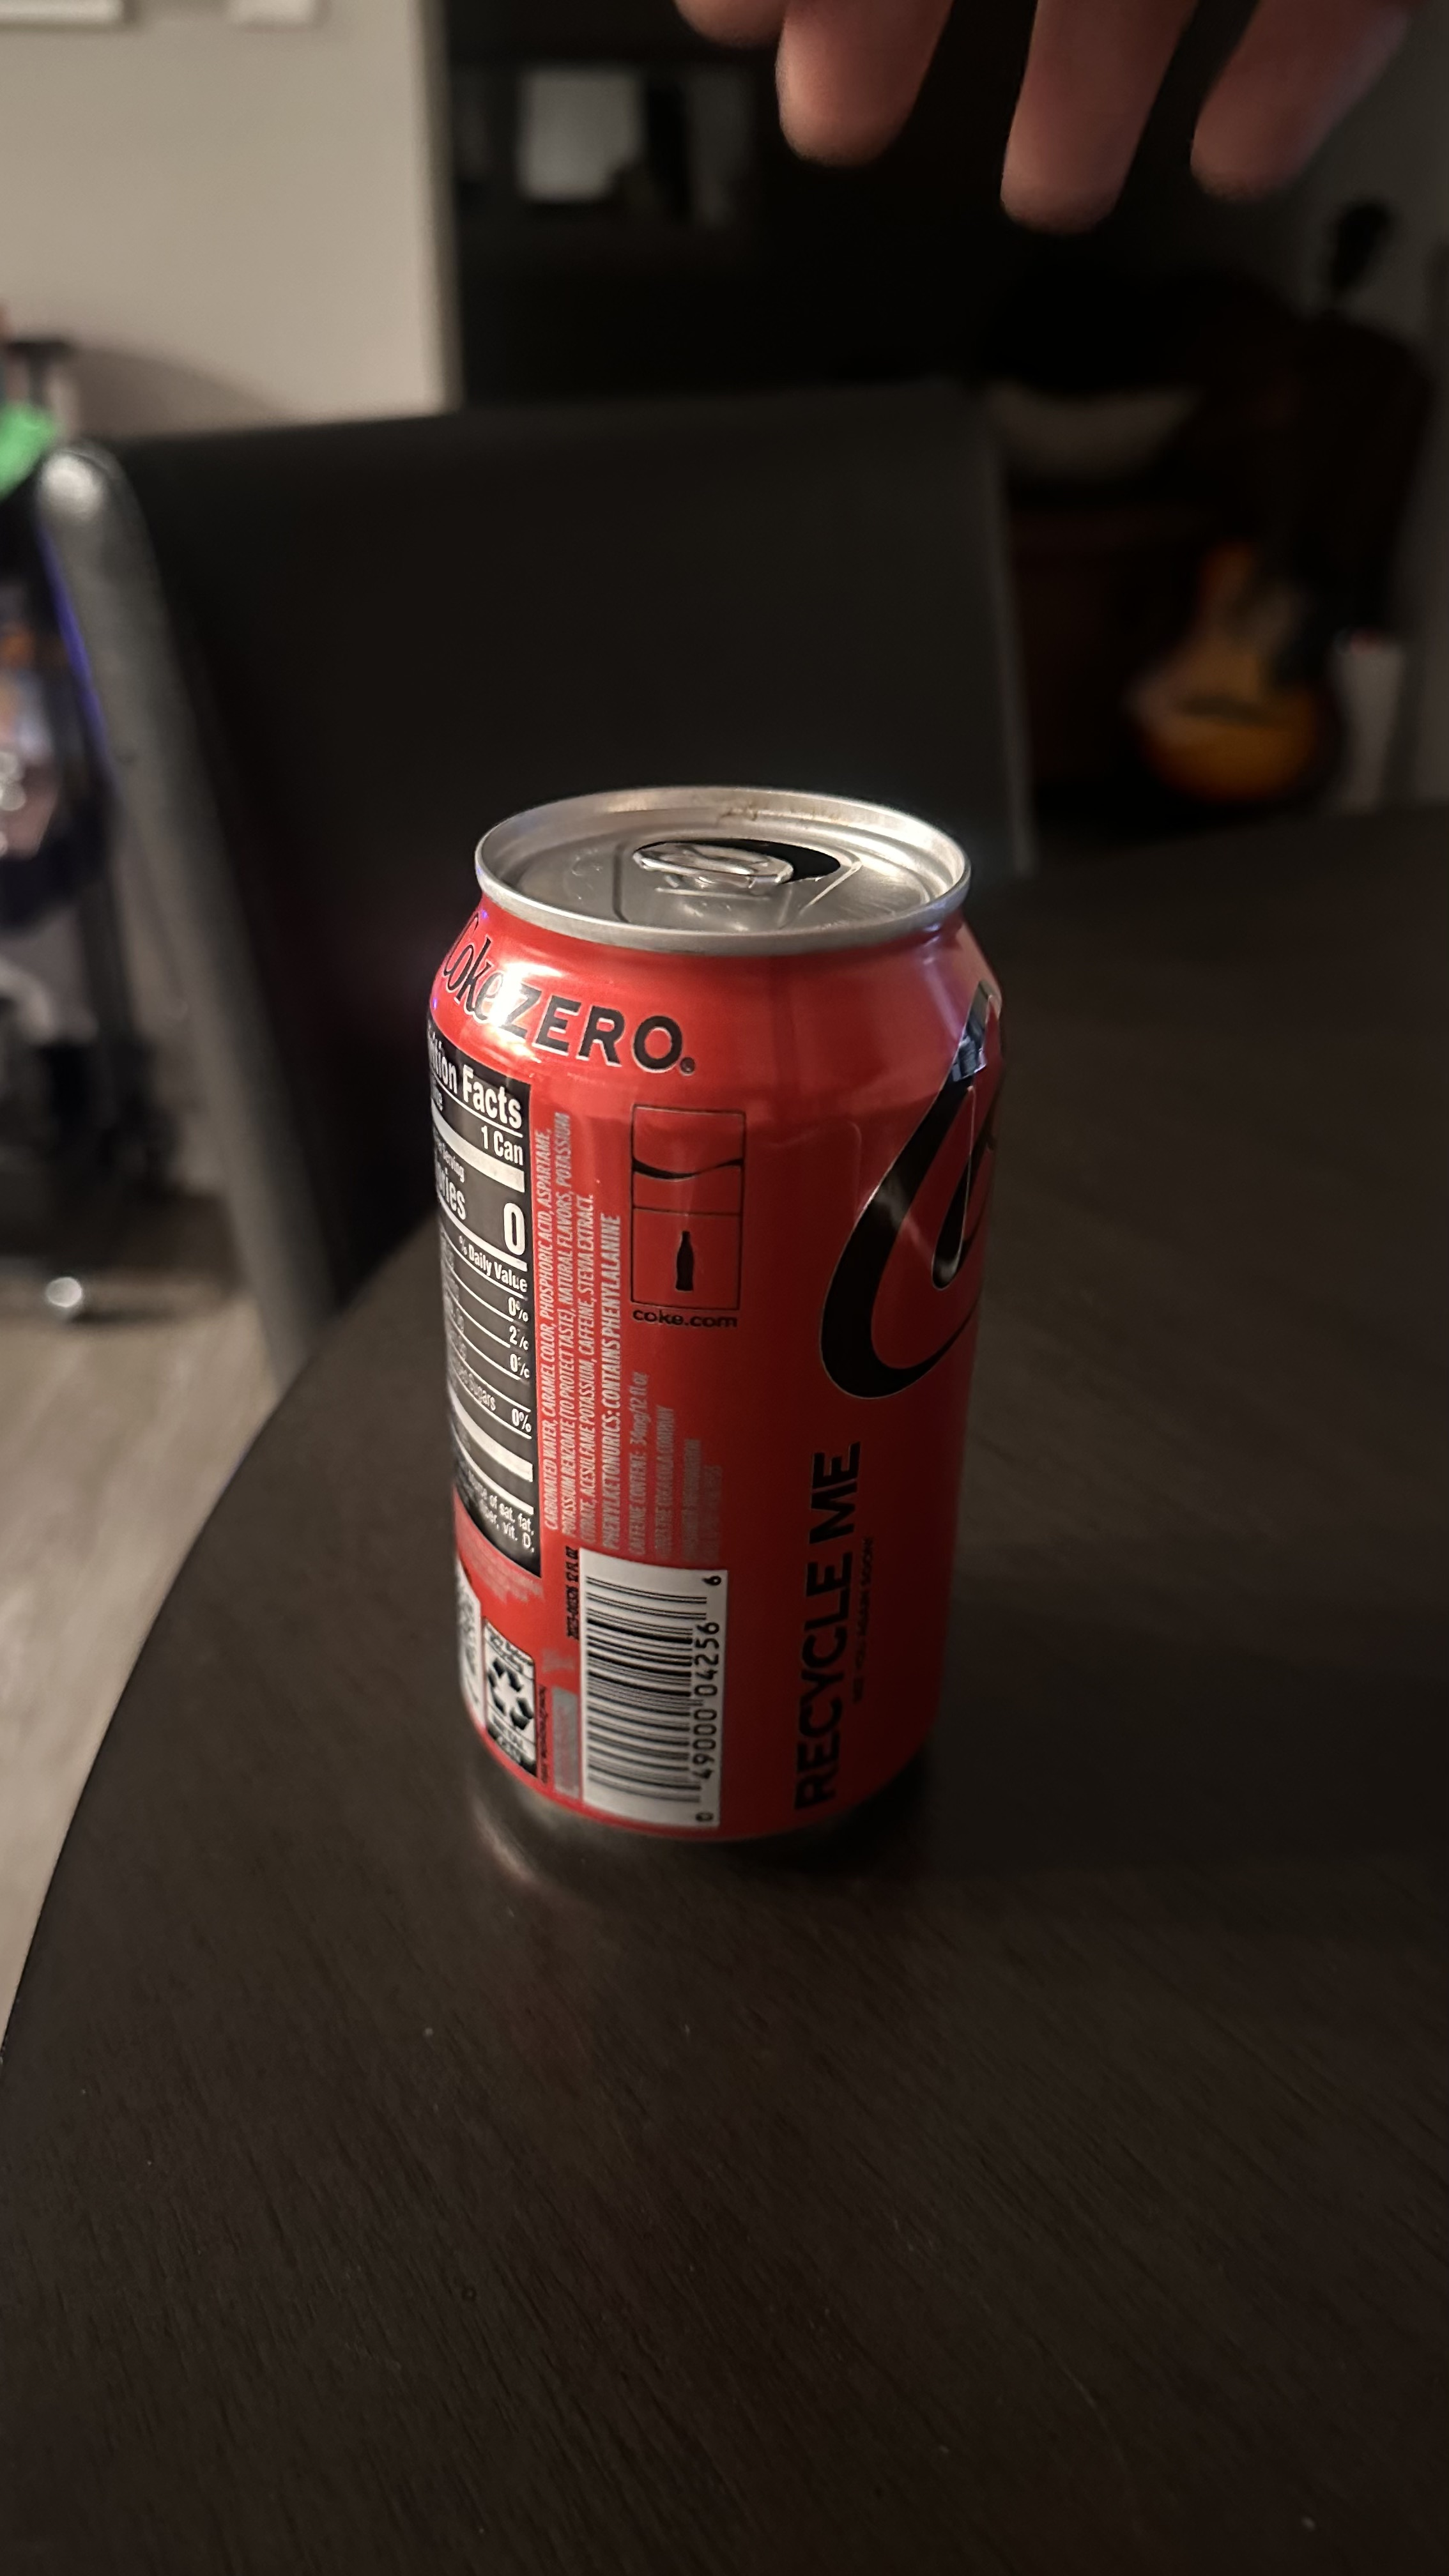Coke Zero: (366, 763, 994, 1898)
